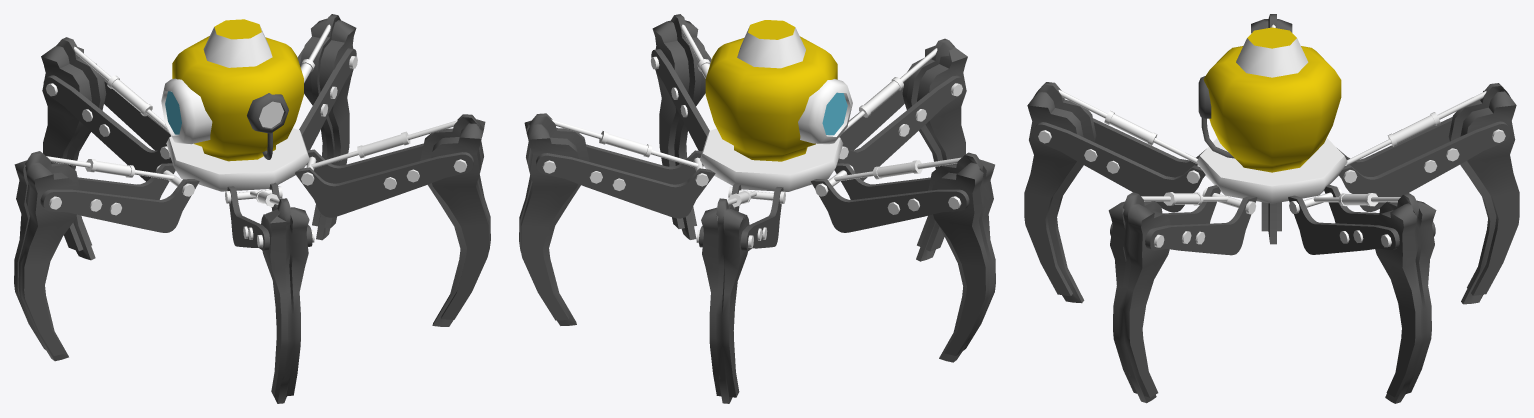
File: OP_2_Enemy.fbx
3 renders of one model, left to right at view 1: azimuth 30°, elevation 25°; view 2: azimuth 150°, elevation 25°; view 3: azimuth 270°, elevation 25°, orthographic.
Visible parts, largest first — view 1: OP_2_Enemy; view 2: OP_2_Enemy; view 3: OP_2_Enemy.
Part boxes in pixels (left/top/right/bottom): OP_2_Enemy: left=14, top=14, right=490, bottom=403; OP_2_Enemy: left=519, top=14, right=995, bottom=403; OP_2_Enemy: left=1024, top=14, right=1519, bottom=403.
Size of the model in its own units: 357 by 243 by 374.
